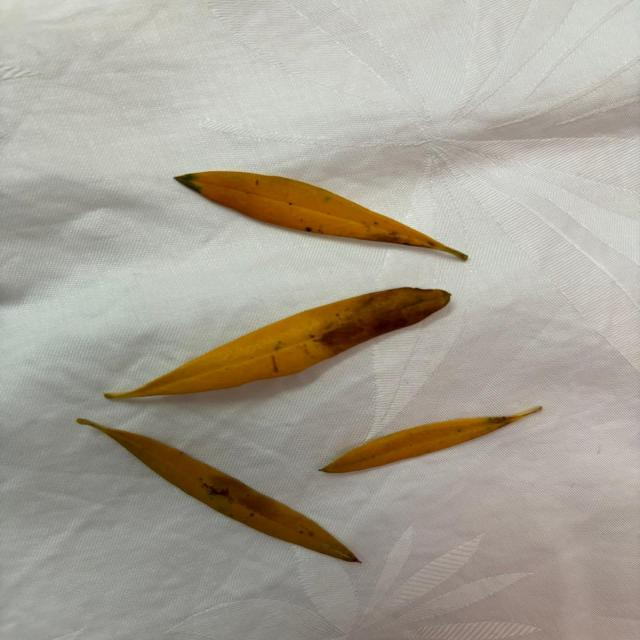Peacock Eye: (77, 420, 359, 562), (105, 288, 449, 399), (175, 171, 467, 260), (320, 406, 541, 472)
